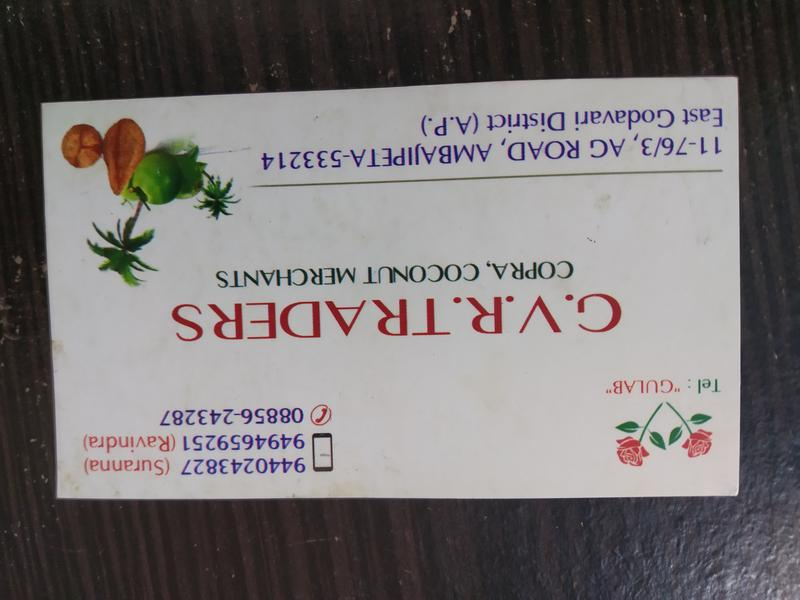card: (41, 78, 742, 496)
